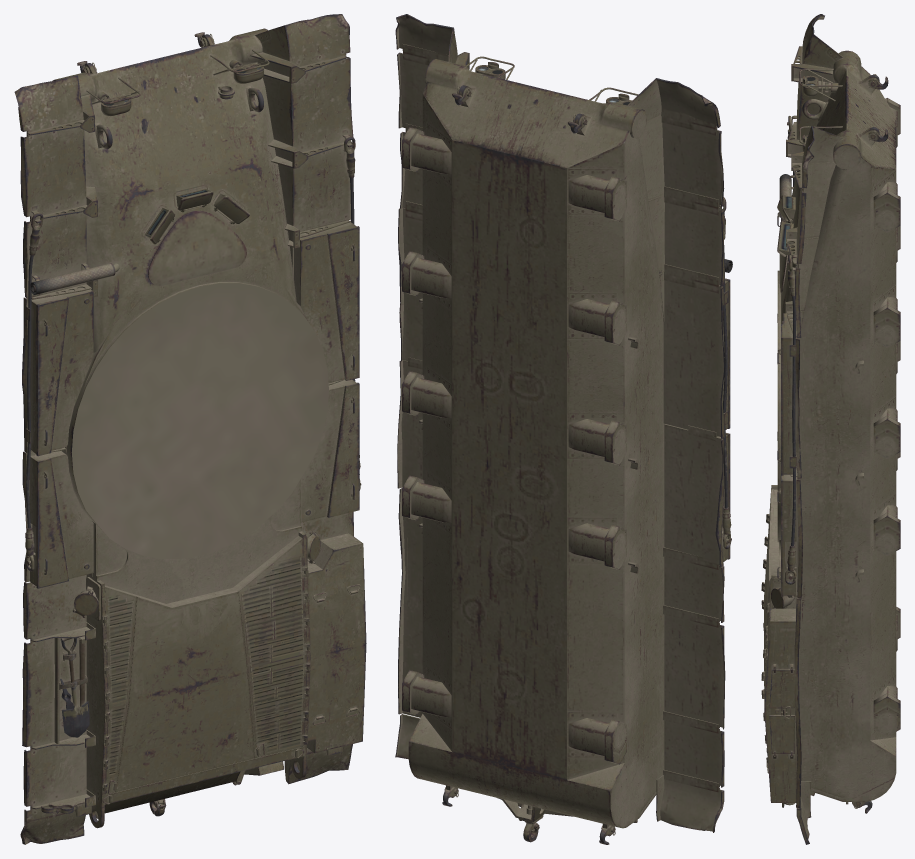
Rendered from Hull.glb.
3 renders of one model, left to right at view 1: azimuth 30°, elevation 25°; view 2: azimuth 150°, elevation 25°; view 3: azimuth 270°, elevation 25°, orthographic. The views are drawn at different scales.
Visible parts, largest first — view 1: set_0_group_0; view 2: set_0_group_0; view 3: set_0_group_0.
Part boxes in pixels (x1,y1,x2,y2): set_0_group_0: (14,14,366,844); set_0_group_0: (395,14,732,844); set_0_group_0: (761,14,900,844).
Size of the model in its own units: 3.22 by 7.2 by 1.27.
1 material, 1 textured.
